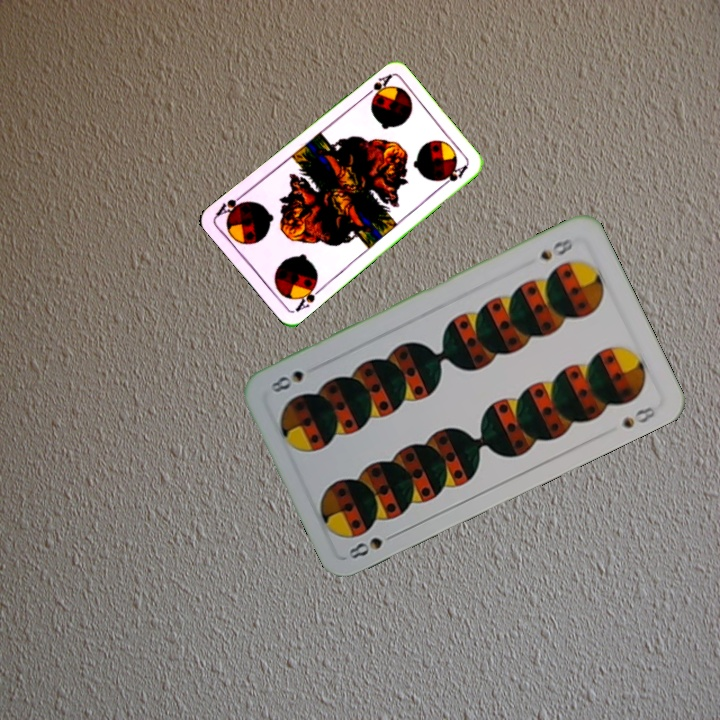S8: (344, 526, 401, 562), (535, 233, 579, 263)
SA: (291, 278, 325, 315), (359, 70, 394, 101)
